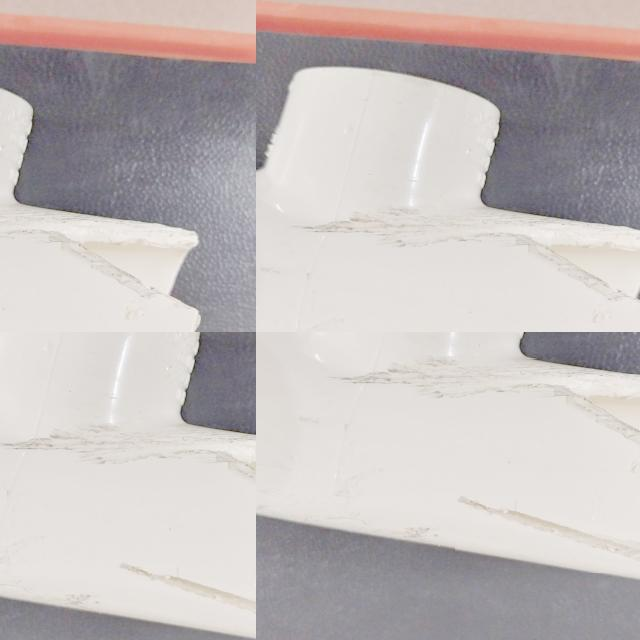Defective: (331, 360, 640, 441), (455, 497, 640, 573), (0, 369, 114, 484), (546, 386, 640, 466)
T Joint: (256, 332, 640, 593), (186, 410, 256, 640)
